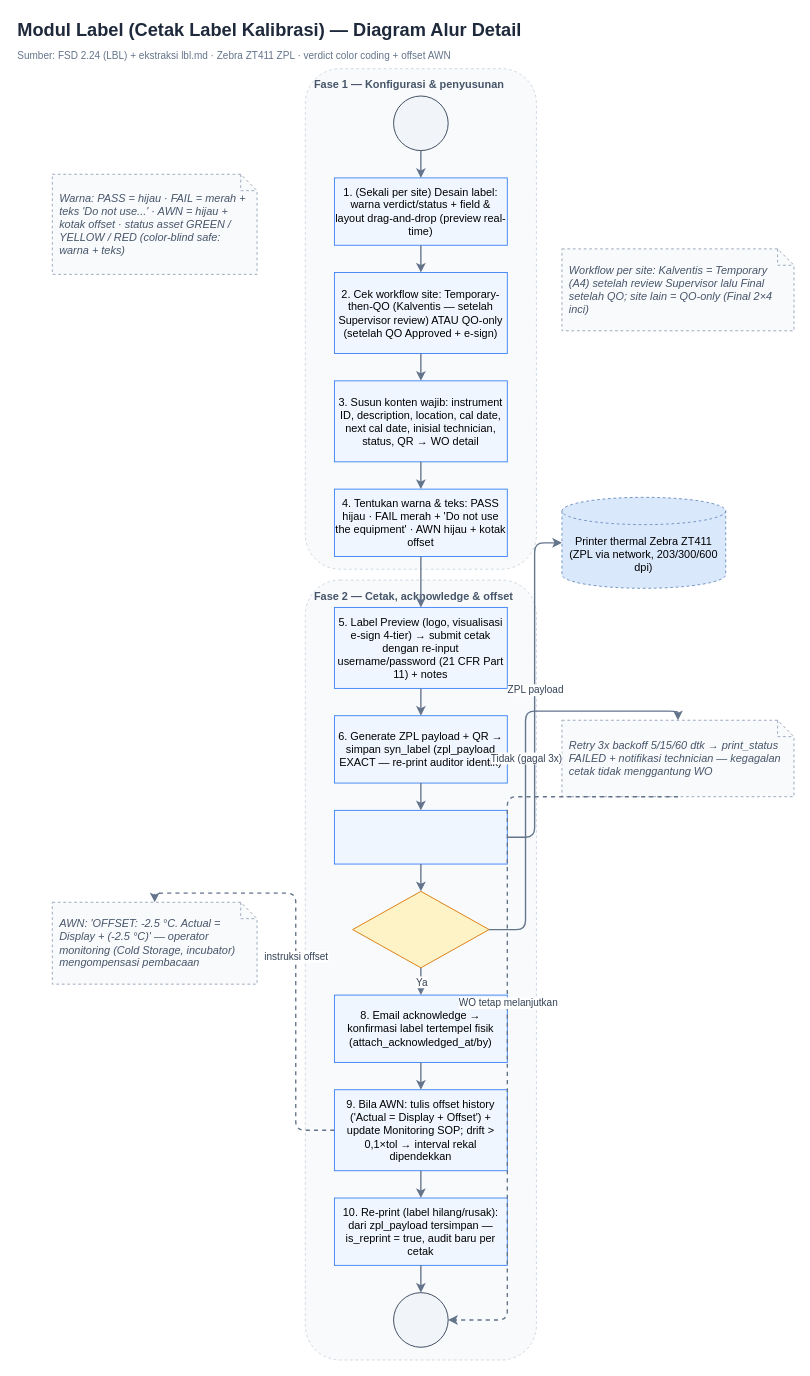
This 810x1376 diagram has some shape labels left out. Each missing label, with the centre of its shape:
"7. Kirim ZPL ke printer Zebra ZT411 via network (printer_id tercatat)" goes at (420,836).
"Mulai (WO mencapai tahap izin cetak label)" goes at (420,123).
"Print sukses?" goes at (420,929).
"Selesai" goes at (420,1319).
